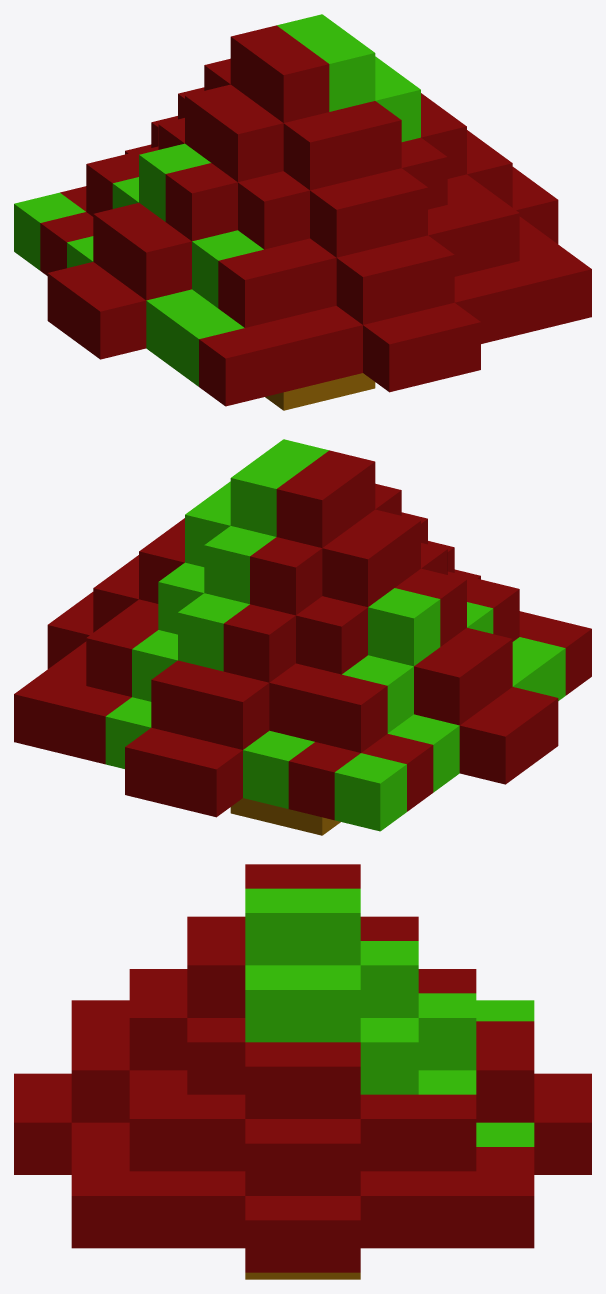
The model's file is Cedro_Juan_Manuel_Lombana_Cárdenas_fase_2.obj.
3 renders of one model, top to bottom at view 1: azimuth 30°, elevation 25°; view 2: azimuth 150°, elevation 25°; view 3: azimuth 270°, elevation 25°, orthographic. The views are drawn at different scales.
Visible parts, largest first — view 1: Cedro_Juan_Manuel_Lombana_Cárdenas_fase_2; view 2: Cedro_Juan_Manuel_Lombana_Cárdenas_fase_2; view 3: Cedro_Juan_Manuel_Lombana_Cárdenas_fase_2.
Part boxes in pixels (bbox=[...]): Cedro_Juan_Manuel_Lombana_Cárdenas_fase_2: bbox=[14, 14, 591, 410]; Cedro_Juan_Manuel_Lombana_Cárdenas_fase_2: bbox=[14, 439, 591, 835]; Cedro_Juan_Manuel_Lombana_Cárdenas_fase_2: bbox=[14, 864, 591, 1279].
Size of the model in its own units: 10 by 7 by 10.
